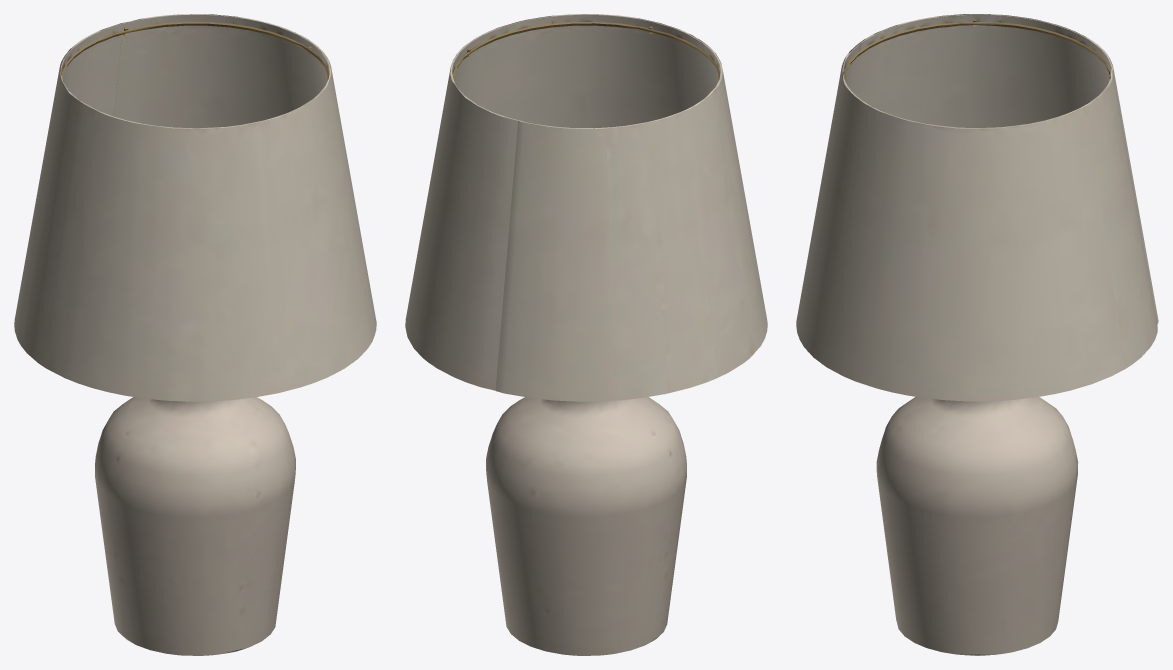
File: LB-TABLELAMP-01.glb
3 views of the same model, side by side, from view 1: azimuth 30°, elevation 25°; view 2: azimuth 150°, elevation 25°; view 3: azimuth 270°, elevation 25° (orthographic).
Parts seen in each view (by area): view 1: Mesh_0; view 2: Mesh_0; view 3: Mesh_0.
Part boxes in pixels (<box>): Mesh_0: <box>14,14,376,655</box>; Mesh_0: <box>405,14,767,655</box>; Mesh_0: <box>796,14,1158,655</box>.
Size of the model in its own units: 0.3809 by 0.6395 by 0.3807.
Materials: 1 (1 with a texture image).
